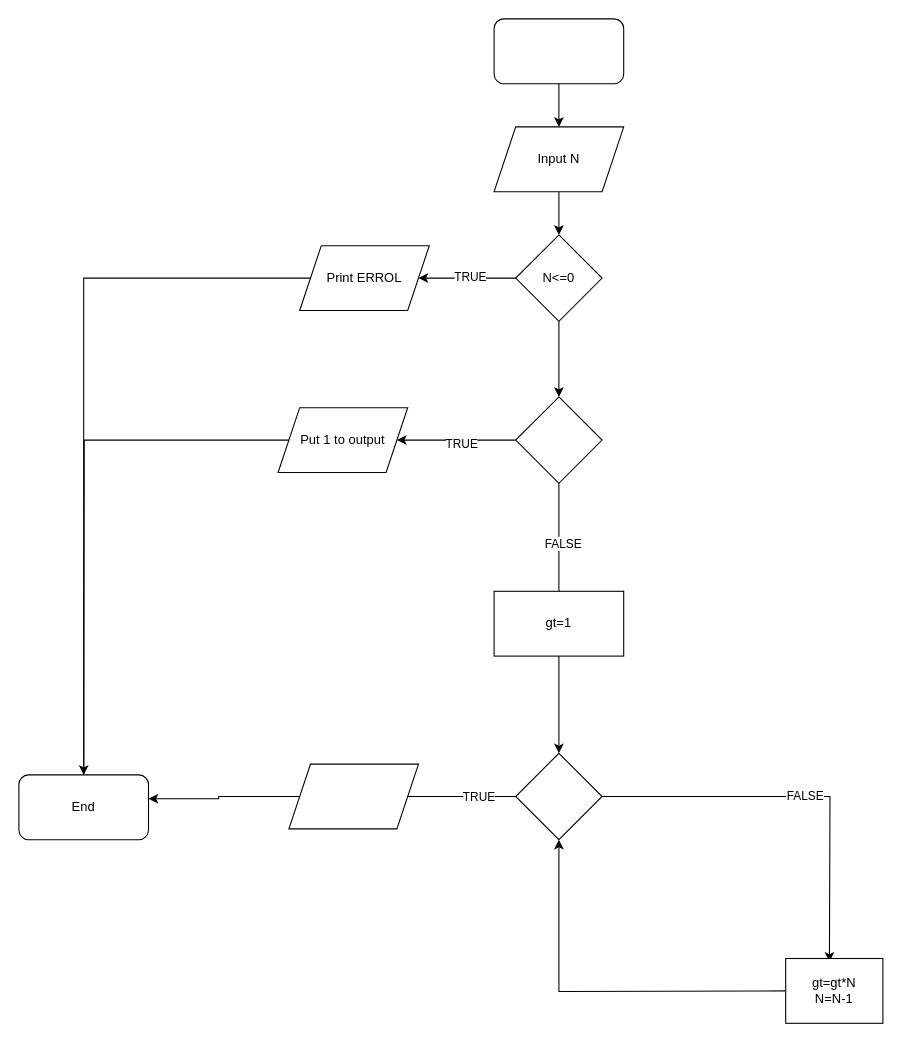
Image size: 902x1042. Some labels were removed from this diagram. Here are the shapes that lost their labels. From the top down, the centre of each, then its label:
At point (558, 51): "Start".
At point (558, 439): "N=0".
At point (353, 796): "Put gt to output".
At point (558, 796): "N=1".
